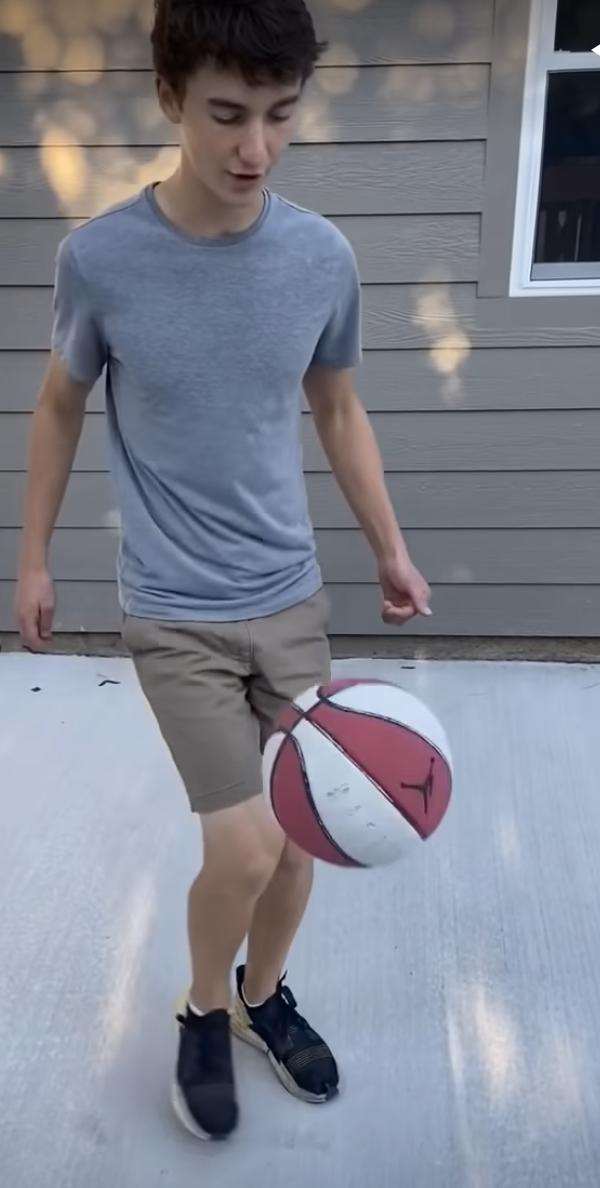ball: (264, 676, 453, 870)
foot: (231, 969, 340, 1101), (169, 1001, 243, 1143)
person: (13, 0, 425, 1142)
